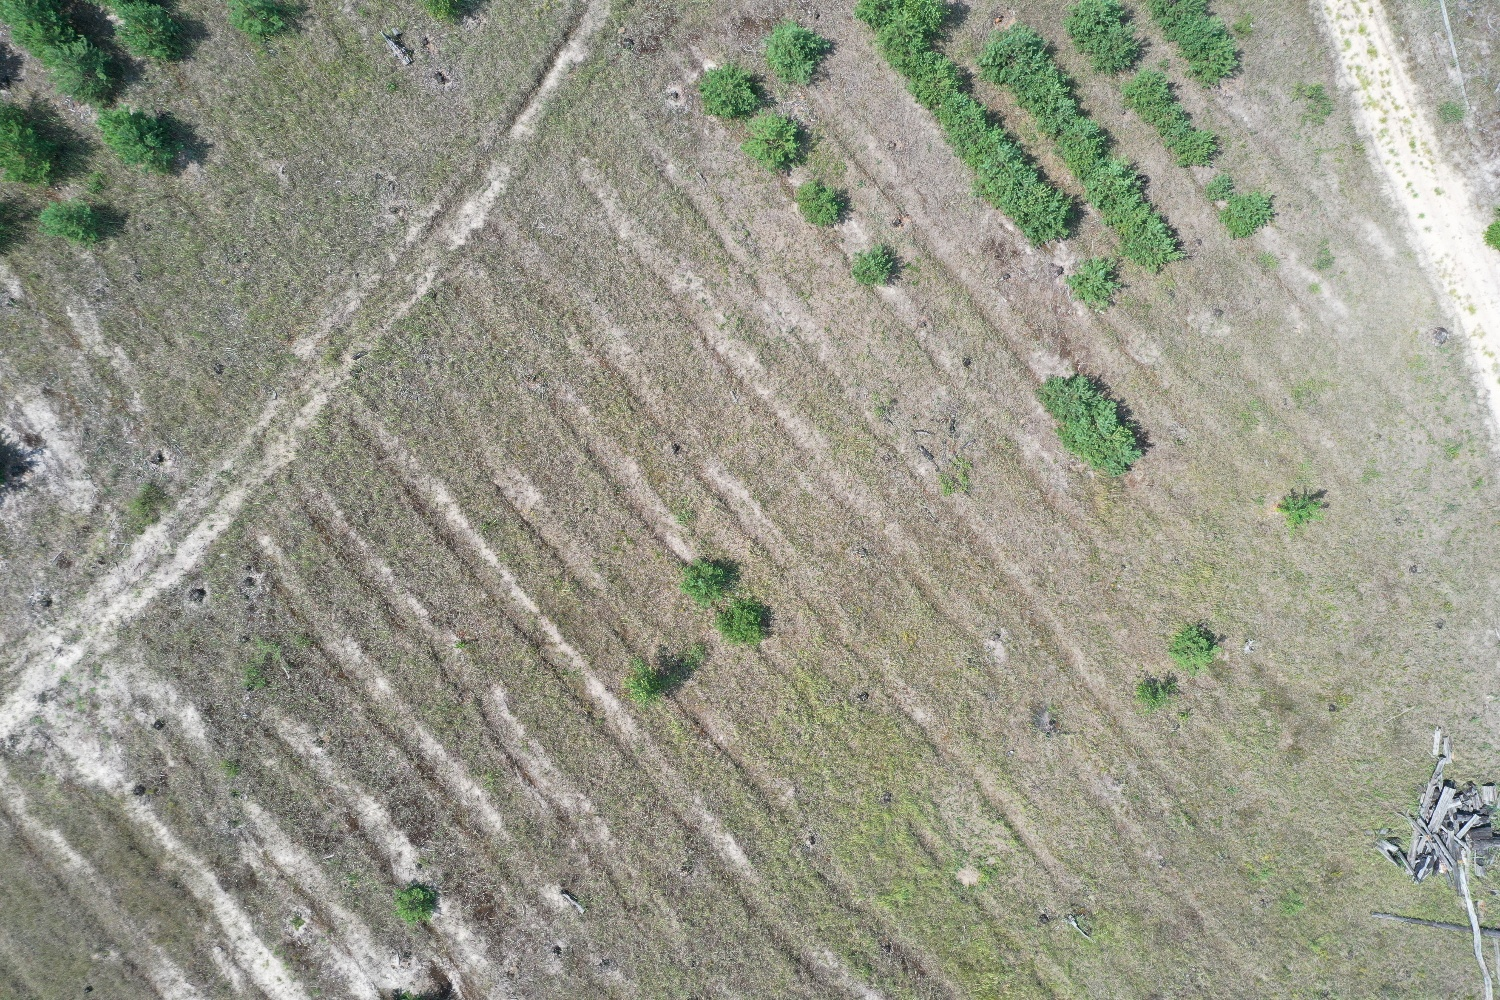branches: (1372, 754, 1500, 886)
